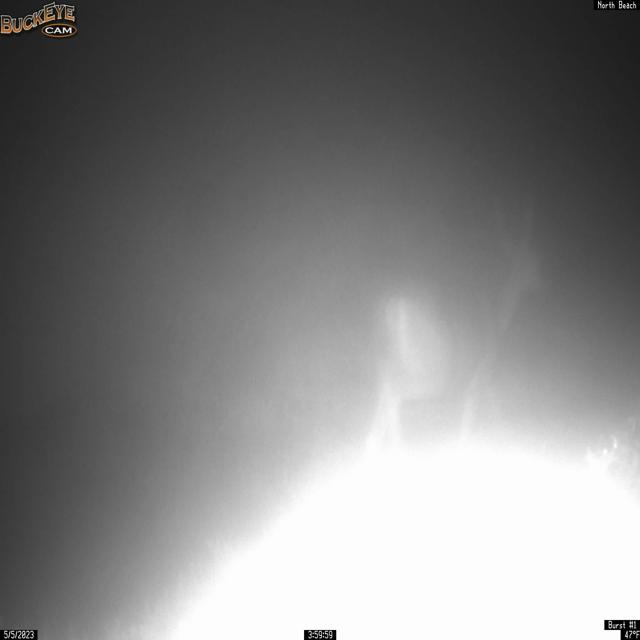deer: (363, 193, 546, 469)
